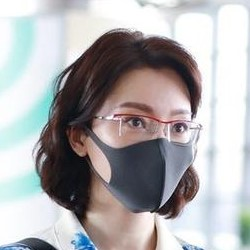mask: (79, 123, 195, 214)
